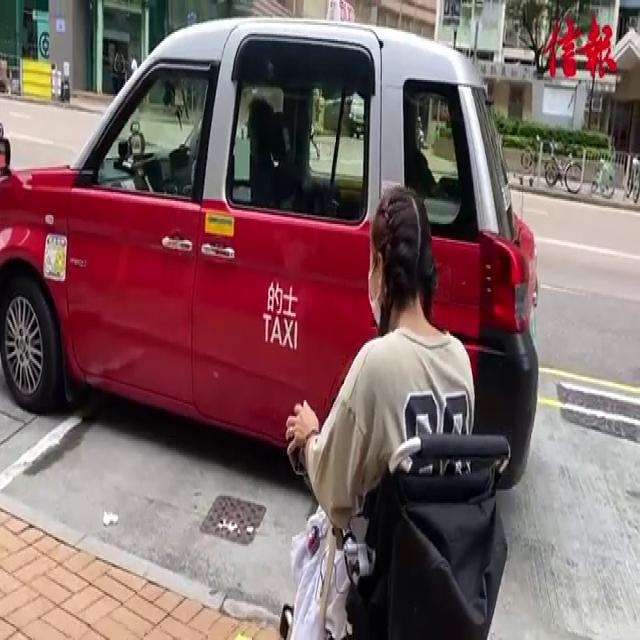wheelchairs: (268, 357, 520, 639)
